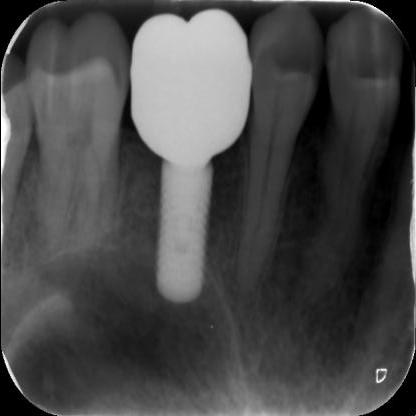ITI: (156, 163, 219, 308)
